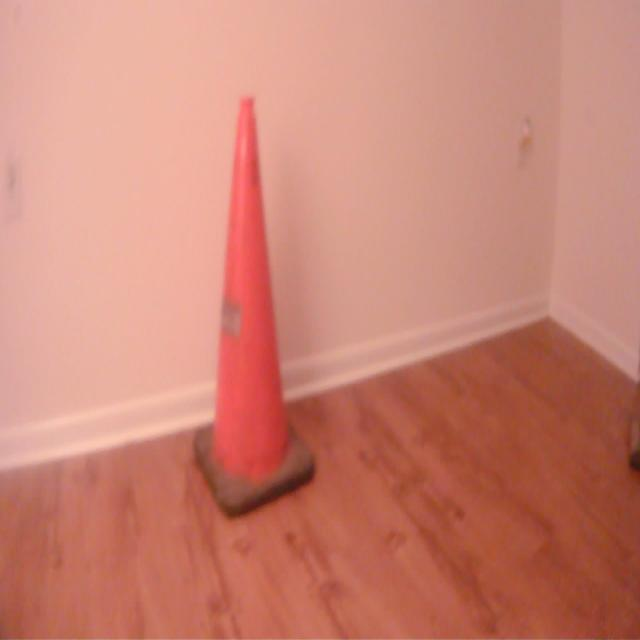traffic cone: (190, 90, 320, 524)
